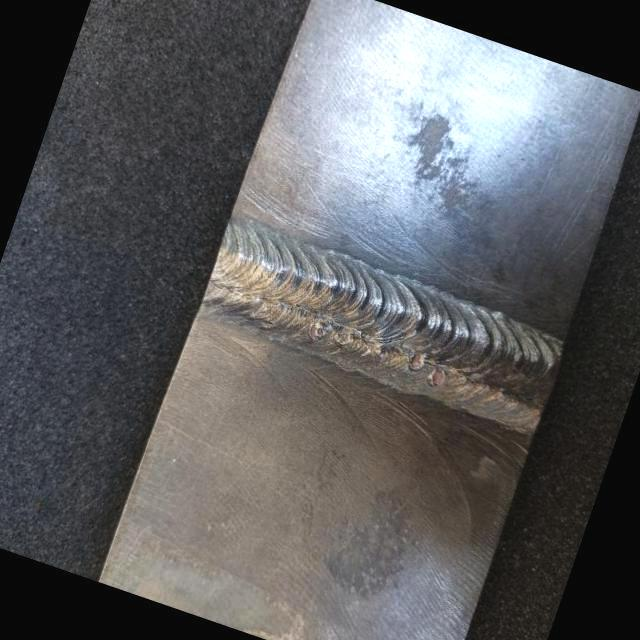defect: (311, 319, 330, 344), (335, 324, 353, 350), (431, 367, 448, 388), (409, 352, 426, 373), (378, 348, 388, 360)
